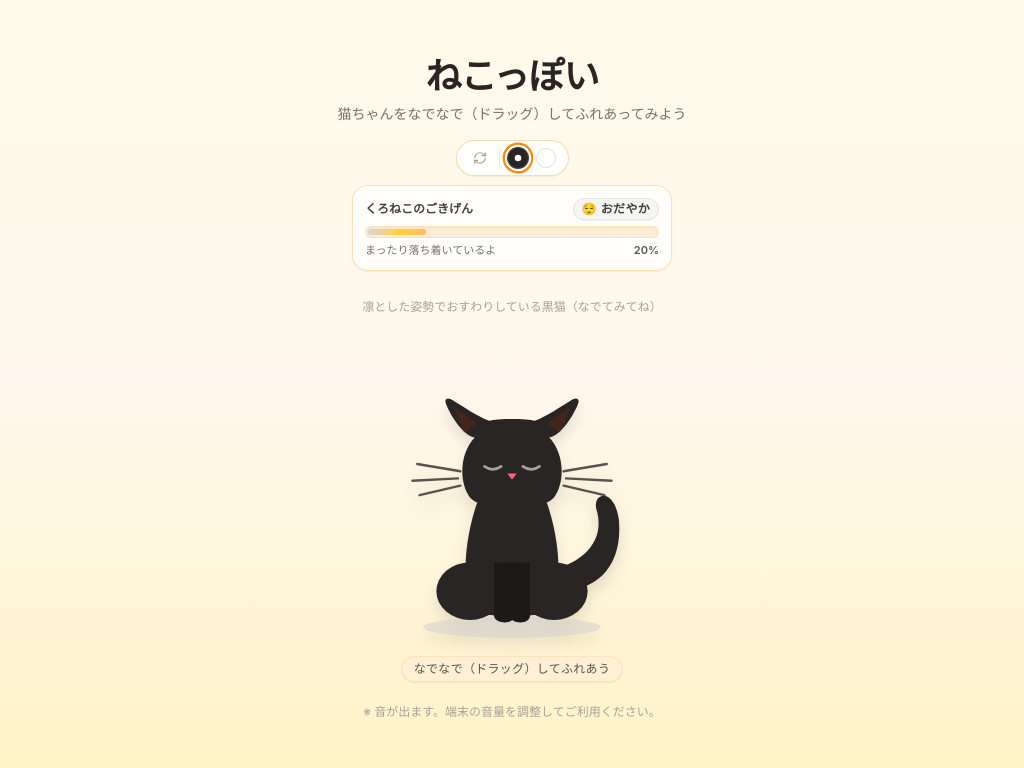
Test: App コンポーネント (猫切り替え機能) › 撫でるとごきげんゲージが上昇し、猫ごとに機嫌が独立して管理されること (第4週)
Expected: the text "くろねこのごきげん" is shown, [365, 201, 473, 217]
Expected: the text "20%" is shown, [634, 242, 659, 258]
Press the mouse on the button with aria-label "くろねこのシルエット" at [512, 519], box [352, 343, 672, 695]
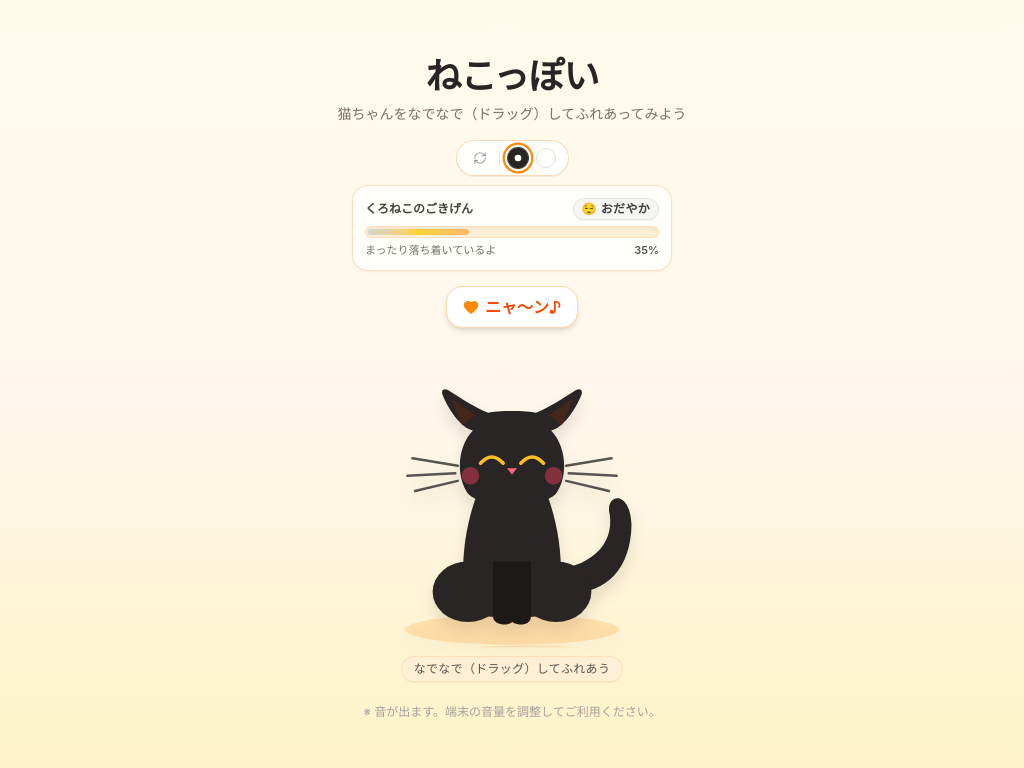
Now the text "35%" is shown, box [634, 242, 659, 258]
Click the radio button named "しろねこ（ごろん）を選択" at [546, 158], box [536, 148, 556, 168]
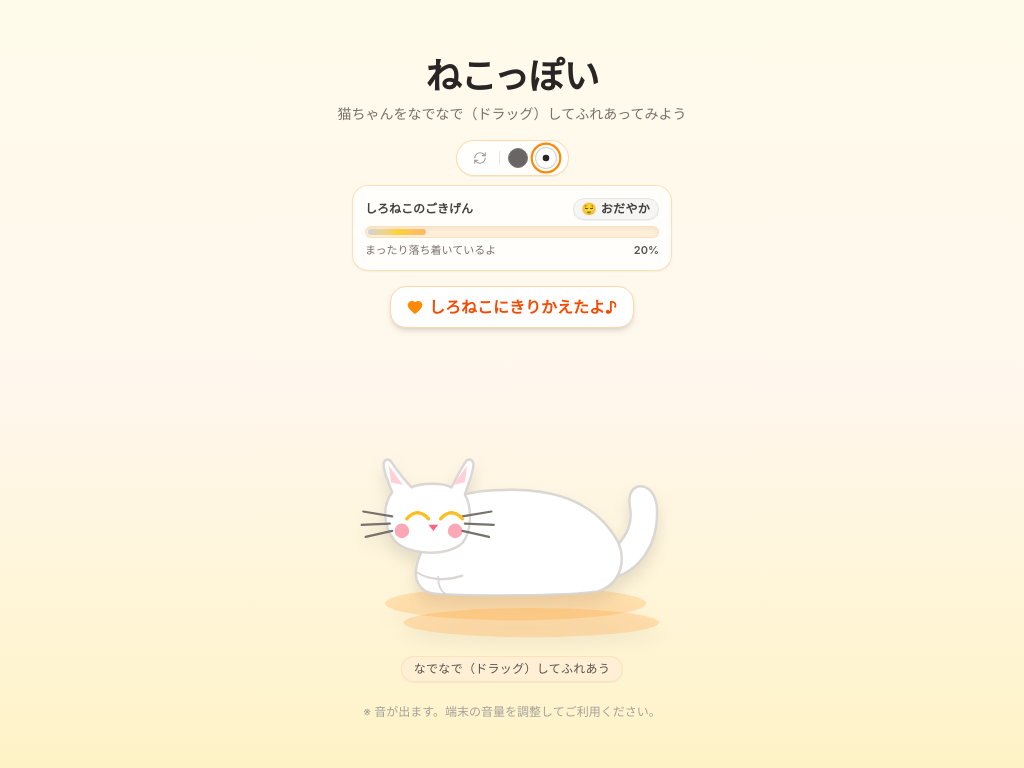
Now the text "しろねこのごきげん" is shown, box [365, 201, 473, 217]
Now the text "20%" is shown, box [634, 242, 659, 258]
Click the radio button named "くろねこ（おすわり）を選択" at [518, 158], box [508, 148, 528, 168]
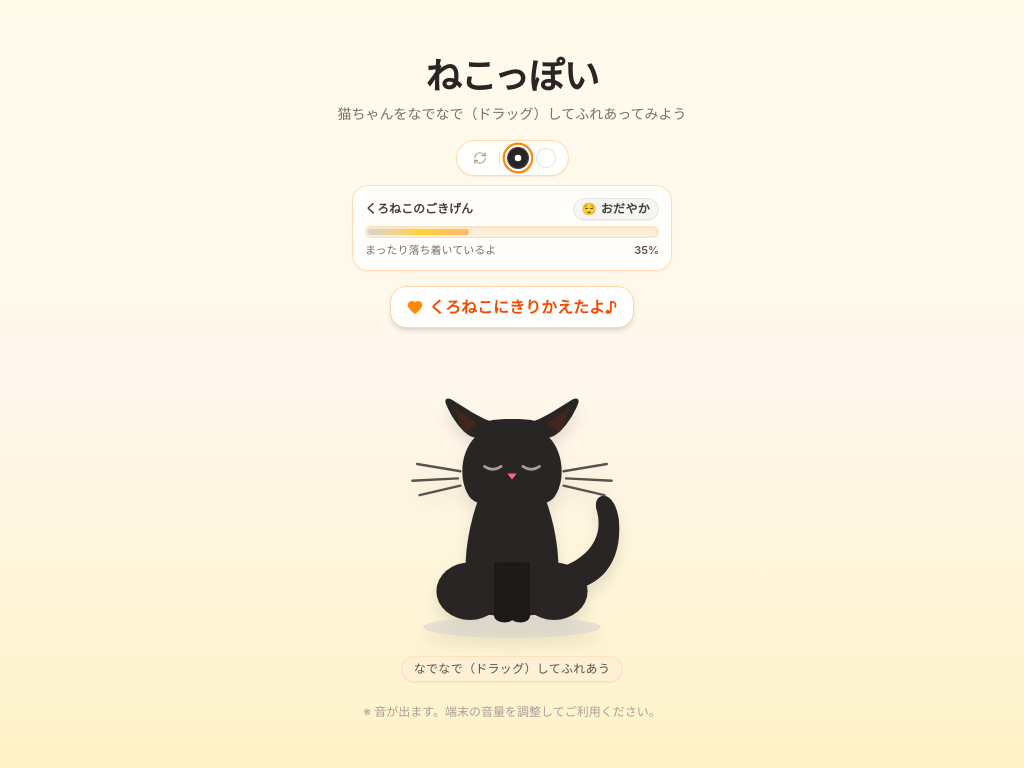
Now the text "くろねこのごきげん" is shown, box [365, 201, 473, 217]
Now the text "35%" is shown, box [634, 242, 659, 258]
